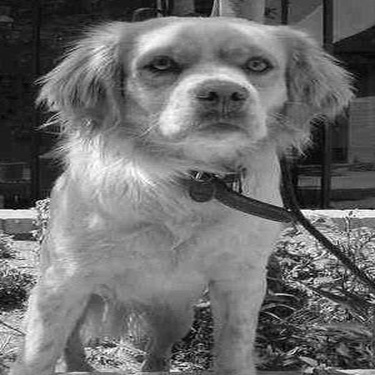dog: (6, 12, 364, 371)
